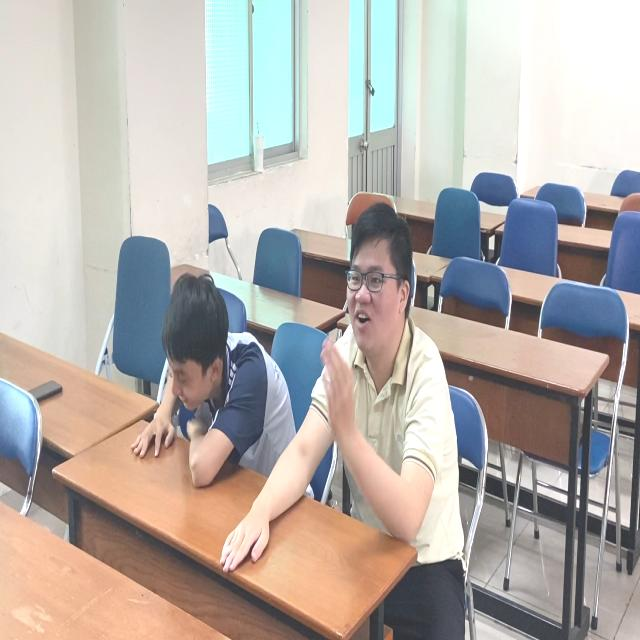raise_hand: (312, 199, 452, 544)
